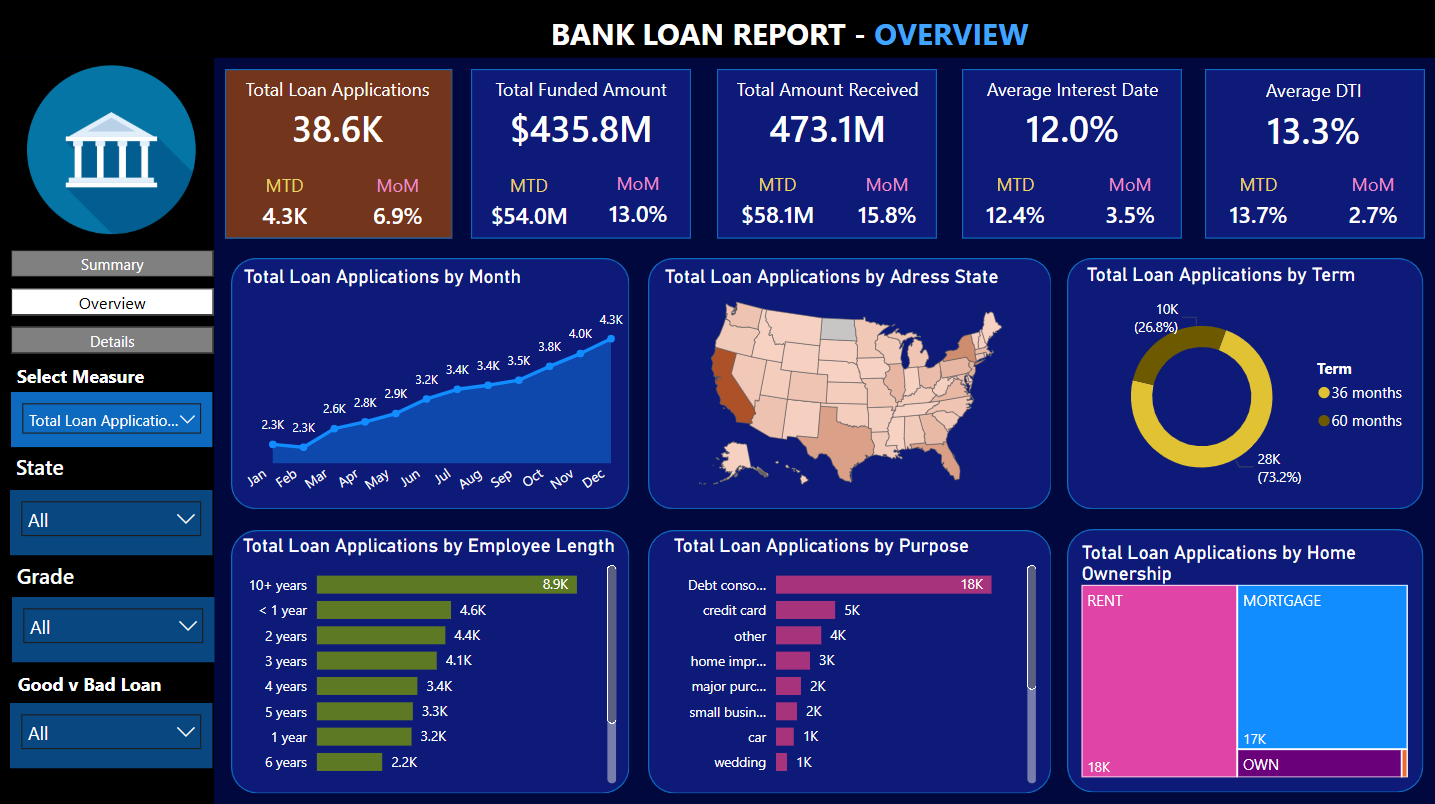

The page's visual inventory and layout, read from the dashboard file:
{"tool":"powerbi","page":{"name":"Overview","canvas":[1280,720],"ordinal":1},"visuals":[{"type":"cardVisual","fields":{"Data":["financial_loan.MTD Average Interest Date"]},"box":[846.7,140.9,116.6,82.1],"z":0,"group":"g7"},{"type":"cardVisual","fields":{"Data":["financial_loan.MTD Average DTI"]},"box":[1063.4,140.9,116.6,82.1],"z":0,"group":"g8"},{"type":"cardVisual","fields":{"Data":["financial_loan.MTD Loan Applications"]},"box":[202.3,141,106,82.7],"z":0,"group":"g4"},{"type":"cardVisual","fields":{"Data":["financial_loan.MTD Amount Received"]},"box":[631,141.1,125.4,82.5],"z":0,"group":"g6"},{"type":"cardVisual","fields":{"Data":["financial_loan.MTD Funded Amount"]},"box":[410,141.2,126.5,81.4],"z":0,"group":"g5"},{"type":"shape","box":[207.8,233.1,354.1,223.2],"z":0},{"type":"group","id":"g1","title":"Group 3","box":[11.2,401.2,180.3,96.8],"z":0,"group":"g9"},{"type":"slicer","fields":{"Values":["financial_loan.address_state"]},"box":[11.2,439.7,180.3,58.3],"z":0,"group":"g1"},{"type":"slicer","fields":{"Values":["financial_loan.grade"]},"box":[13,534.7,180.4,57.8],"z":0,"group":"g2"},{"type":"slicer","fields":{"Values":["financial_loan.Good vs Bad Loan"]},"box":[11.3,629,180.3,58.3],"z":0,"group":"g3"},{"type":"shape","box":[0,0,1280,55],"z":1000},{"type":"cardVisual","fields":{"Data":["financial_loan.MoM Funded Amount"]},"box":[515.1,139.7,110.6,82.3],"z":1000,"group":"g5"},{"type":"cardVisual","fields":{"Data":["financial_loan.MoM Amount Received"]},"box":[736.2,140.8,110.6,82.3],"z":1000,"group":"g6"},{"type":"cardVisual","fields":{"Data":["financial_loan.MoM Average Interest Date"]},"box":[950.7,140.8,112.2,82.5],"z":1000,"group":"g7"},{"type":"cardVisual","fields":{"Data":["financial_loan.MoM Average DTI"]},"box":[1167.4,140.8,112.2,82.5],"z":1000,"group":"g8"},{"type":"cardVisual","fields":{"Data":["financial_loan.MoM Loan Applications"]},"box":[298.6,141,115.7,82.7],"z":1000,"group":"g4"},{"type":"textbox","box":[11.2,401.2,115.5,38.5],"z":1000,"group":"g1"},{"type":"group","id":"g2","title":"Group 4","box":[12.3,498,181.2,94.4],"z":1000,"group":"g9"},{"type":"textbox","box":[12.3,498,115.5,39.6],"z":1000,"group":"g2"},{"type":"textbox","box":[12.9,595.8,146.7,39.1],"z":1000,"group":"g3"},{"type":"shape","box":[0.9,55.1,192,664.9],"z":2000},{"type":"group","id":"g3","title":"Group 5","box":[11.3,595.8,180.3,91.4],"z":2000,"group":"g9"},{"type":"textbox","box":[487.1,9.9,442.1,55],"z":3000},{"type":"shape","box":[1073.8,65.2,195.5,150.8],"z":4000},{"type":"shape","box":[202.3,65.2,202.3,150.8],"z":5000},{"type":"shape","box":[857.9,65.2,195.5,150.8],"z":6000},{"type":"shape","box":[640,65.2,195.5,150.8],"z":7000},{"type":"shape","box":[421.2,65.2,195.5,150.8],"z":8000},{"type":"cardVisual","fields":{"Data":["financial_loan.Total Loan Applications"]},"box":[191.3,55,223.2,100.1],"z":9000},{"type":"cardVisual","fields":{"Data":["Sum(financial_loan.loan_amount)"]},"box":[406.9,55,224.3,100.1],"z":10000},{"type":"cardVisual","fields":{"Data":["financial_loan.Total Amount Received"]},"box":[625.7,55,225.4,100.1],"z":11000},{"type":"cardVisual","fields":{"Data":["financial_loan.Average Interest Date"]},"box":[843.4,55,225.4,100.1],"z":12000},{"type":"cardVisual","fields":{"Data":["financial_loan.Average DTI"]},"box":[1073.3,55,195.7,101.2],"z":13000},{"type":"group","id":"g4","title":"Group 1","box":[202.3,141,212,82.7],"z":14000},{"type":"group","id":"g5","title":"Group 1","box":[410,139.7,215.7,82.9],"z":15000},{"type":"group","id":"g6","title":"Group 1","box":[631,140.8,215.8,82.7],"z":16000},{"type":"group","id":"g7","title":"Group 1","box":[846.7,140.8,216.6,82.5],"z":17000},{"type":"group","id":"g8","title":"Group 1","box":[1063.4,140.8,216.2,82.5],"z":18000},{"type":"group","id":"g9","title":"Group 6","box":[11.2,401.2,182.3,286],"z":19000},{"type":"shape","box":[578.4,233.1,358.5,223.2],"z":20000},{"type":"shape","box":[951.2,233.1,316.7,223.2],"z":21000},{"type":"shape","box":[207.8,475.1,354.1,234.2],"z":22000},{"type":"shape","box":[578.4,475.1,358.5,234.2],"z":23000},{"type":"shape","box":[951.2,474,316.7,234.2],"z":24000},{"type":"areaChart","fields":{"Y":["financial_loan.Total Loan Applications"],"Category":["Date Table.Month"]},"box":[214.2,239.1,347.6,222.2],"z":25000},{"type":"slicer","fields":{"Values":["Select Measure.Select Measure"]},"box":[12.3,351.7,179.2,49.5],"z":26000},{"type":"textbox","box":[12.3,322,147.4,37.4],"z":27000},{"type":"shapeMap","fields":{"Value":["financial_loan.Total Loan Applications"],"Category":["financial_loan.address_state"]},"box":[588.4,239.1,340.4,208.9],"z":28000},{"type":"donutChart","fields":{"Y":["financial_loan.Total Loan Applications"],"Category":["financial_loan.term"]},"box":[963.6,237.3,299.6,218.7],"z":29000},{"type":"barChart","fields":{"Y":["financial_loan.Total Loan Applications"],"Category":["financial_loan.emp_length"]},"box":[213.3,478.2,342.2,226.7],"z":30000},{"type":"barChart","fields":{"Y":["financial_loan.Total Loan Applications"],"Category":["financial_loan.purpose"]},"box":[596.4,478.2,332.4,226.7],"z":31000},{"type":"treemap","fields":{"Values":["financial_loan.Total Loan Applications"],"Group":["financial_loan.home_ownership"]},"box":[959.1,484.4,299.6,215.1],"z":32000},{"type":"pageNavigator","box":[12.4,225.8,180.4,93.3],"z":32001},{"type":"image","box":[26.7,50.7,150.2,171.6],"z":32002}]}

Visuals, with their boxes in screenshot pixels (x1, y1, x2, y2), scaled from the page's 1280x720 canvas onto the 1435x804 screenshot:
cardVisual - financial_loan.MTD Average Interest Date: (x1=949, y1=157, x2=1080, y2=249)
cardVisual - financial_loan.MTD Average DTI: (x1=1192, y1=157, x2=1323, y2=249)
cardVisual - financial_loan.MTD Loan Applications: (x1=227, y1=157, x2=346, y2=250)
cardVisual - financial_loan.MTD Amount Received: (x1=707, y1=158, x2=848, y2=250)
cardVisual - financial_loan.MTD Funded Amount: (x1=460, y1=158, x2=601, y2=249)
shape: (x1=233, y1=260, x2=630, y2=510)
"Group 3" group: (x1=13, y1=448, x2=215, y2=556)
slicer - financial_loan.address_state: (x1=13, y1=491, x2=215, y2=556)
slicer - financial_loan.grade: (x1=15, y1=597, x2=217, y2=662)
slicer - financial_loan.Good vs Bad Loan: (x1=13, y1=702, x2=215, y2=767)
shape: (x1=0, y1=0, x2=1434, y2=61)
cardVisual - financial_loan.MoM Funded Amount: (x1=577, y1=156, x2=701, y2=248)
cardVisual - financial_loan.MoM Amount Received: (x1=825, y1=157, x2=949, y2=249)
cardVisual - financial_loan.MoM Average Interest Date: (x1=1066, y1=157, x2=1192, y2=249)
cardVisual - financial_loan.MoM Average DTI: (x1=1309, y1=157, x2=1434, y2=249)
cardVisual - financial_loan.MoM Loan Applications: (x1=335, y1=157, x2=464, y2=250)
textbox: (x1=13, y1=448, x2=142, y2=491)
"Group 4" group: (x1=14, y1=556, x2=217, y2=662)
textbox: (x1=14, y1=556, x2=143, y2=600)
textbox: (x1=14, y1=665, x2=179, y2=709)
shape: (x1=1, y1=62, x2=216, y2=803)
"Group 5" group: (x1=13, y1=665, x2=215, y2=767)
textbox: (x1=546, y1=11, x2=1042, y2=72)
shape: (x1=1204, y1=73, x2=1423, y2=241)
shape: (x1=227, y1=73, x2=454, y2=241)
shape: (x1=962, y1=73, x2=1181, y2=241)
shape: (x1=718, y1=73, x2=937, y2=241)
shape: (x1=472, y1=73, x2=691, y2=241)
cardVisual - financial_loan.Total Loan Applications: (x1=214, y1=61, x2=465, y2=173)
cardVisual - Sum(financial_loan.loan_amount): (x1=456, y1=61, x2=708, y2=173)
cardVisual - financial_loan.Total Amount Received: (x1=701, y1=61, x2=954, y2=173)
cardVisual - financial_loan.Average Interest Date: (x1=946, y1=61, x2=1198, y2=173)
cardVisual - financial_loan.Average DTI: (x1=1203, y1=61, x2=1423, y2=174)
"Group 1" group: (x1=227, y1=157, x2=464, y2=250)
"Group 1" group: (x1=460, y1=156, x2=701, y2=249)
"Group 1" group: (x1=707, y1=157, x2=949, y2=250)
"Group 1" group: (x1=949, y1=157, x2=1192, y2=249)
"Group 1" group: (x1=1192, y1=157, x2=1434, y2=249)
"Group 6" group: (x1=13, y1=448, x2=217, y2=767)
shape: (x1=648, y1=260, x2=1050, y2=510)
shape: (x1=1066, y1=260, x2=1421, y2=510)
shape: (x1=233, y1=531, x2=630, y2=792)
shape: (x1=648, y1=531, x2=1050, y2=792)
shape: (x1=1066, y1=529, x2=1421, y2=791)
areaChart - financial_loan.Total Loan Applications x Date Table.Month: (x1=240, y1=267, x2=630, y2=515)
slicer - Select Measure.Select Measure: (x1=14, y1=393, x2=215, y2=448)
textbox: (x1=14, y1=360, x2=179, y2=401)
shapeMap - financial_loan.Total Loan Applications x financial_loan.address_state: (x1=660, y1=267, x2=1041, y2=500)
donutChart - financial_loan.Total Loan Applications x financial_loan.term: (x1=1080, y1=265, x2=1416, y2=509)
barChart - financial_loan.Total Loan Applications x financial_loan.emp_length: (x1=239, y1=534, x2=623, y2=787)
barChart - financial_loan.Total Loan Applications x financial_loan.purpose: (x1=669, y1=534, x2=1041, y2=787)
treemap - financial_loan.Total Loan Applications x financial_loan.home_ownership: (x1=1075, y1=541, x2=1411, y2=781)
pageNavigator: (x1=14, y1=252, x2=216, y2=356)
image: (x1=30, y1=57, x2=198, y2=248)
